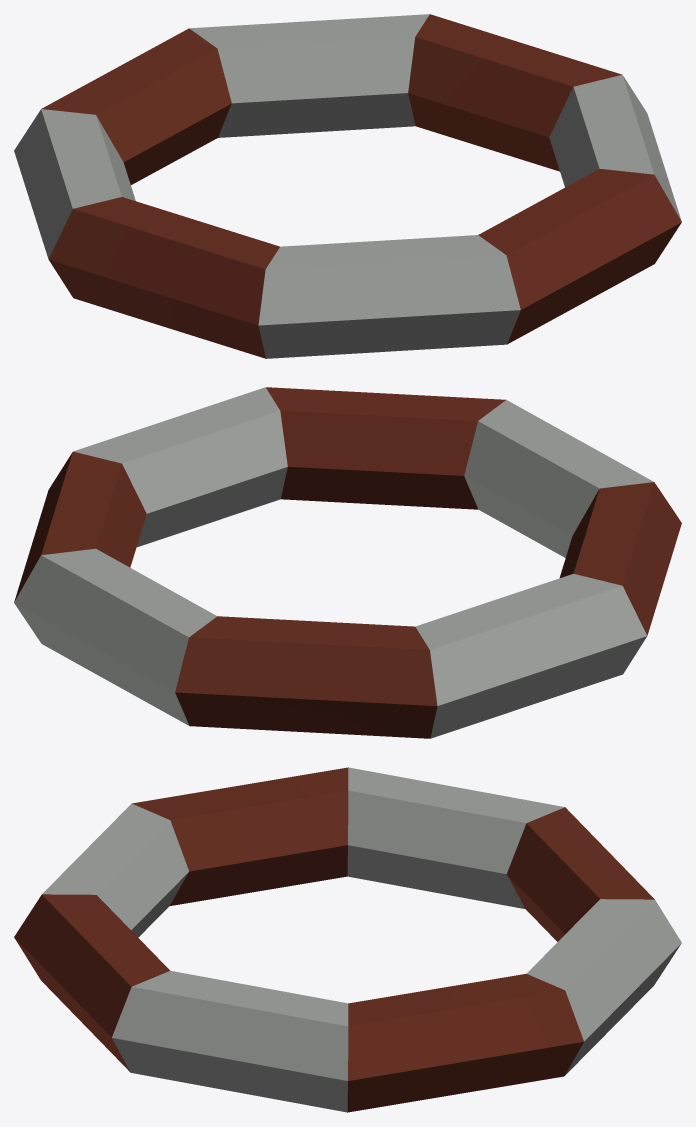
File: SM_Prop_Ring_Toss_Ring_01.glb
The picture shows the model from 3 angles, top to bottom: view 1: azimuth 30°, elevation 25°; view 2: azimuth 150°, elevation 25°; view 3: azimuth 270°, elevation 25°; orthographic projection. The views are drawn at different scales.
Visible parts, largest first — view 1: SM_Prop_Ring_Toss_Ring_01; view 2: SM_Prop_Ring_Toss_Ring_01; view 3: SM_Prop_Ring_Toss_Ring_01.
Part boxes in pixels (x1,y1,x2,y2): SM_Prop_Ring_Toss_Ring_01: [14, 14, 681, 358]; SM_Prop_Ring_Toss_Ring_01: [14, 387, 681, 738]; SM_Prop_Ring_Toss_Ring_01: [14, 767, 681, 1112].
Size of the model in its own units: 25.43 by 3.83 by 25.43.
Materials: 1 (1 with a texture image).
